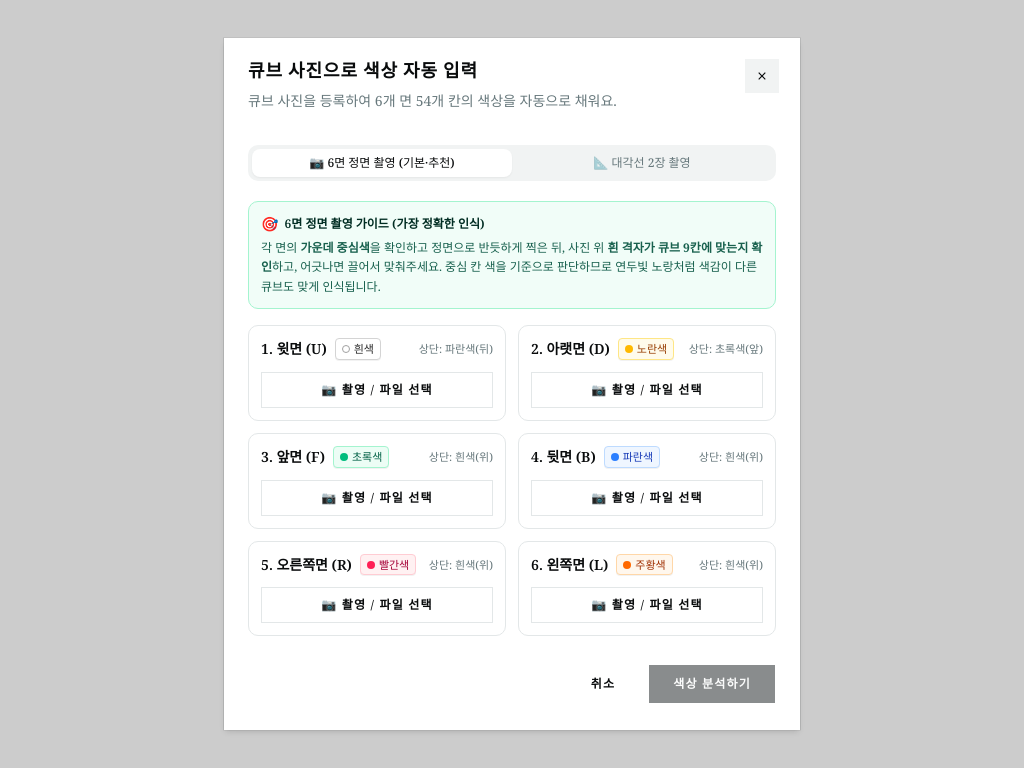
PhotoInputDialog › 허용된 관리자(debtor11@gmail.com)로 로그인된 경우 기본으로 6면 정면 촬영 모드가 노출된다
The image size is (1024, 768).
Check: the text "6면 정면 촬영 가이드 (가장 정확한 인식)" is shown, box [284,216,485,232]
Check: the text "1. 윗면 (U)" is shown, box [261,340,327,360]
# 대각선 2장 촬영 탭 클릭 시 2장 촬영 UI로 전환 확인
What coordinates should you click on to do the following:
click the button "📐 대각선 2장 촬영"
I would click on:
 (642, 163)
Its box is [512,149,772,177].
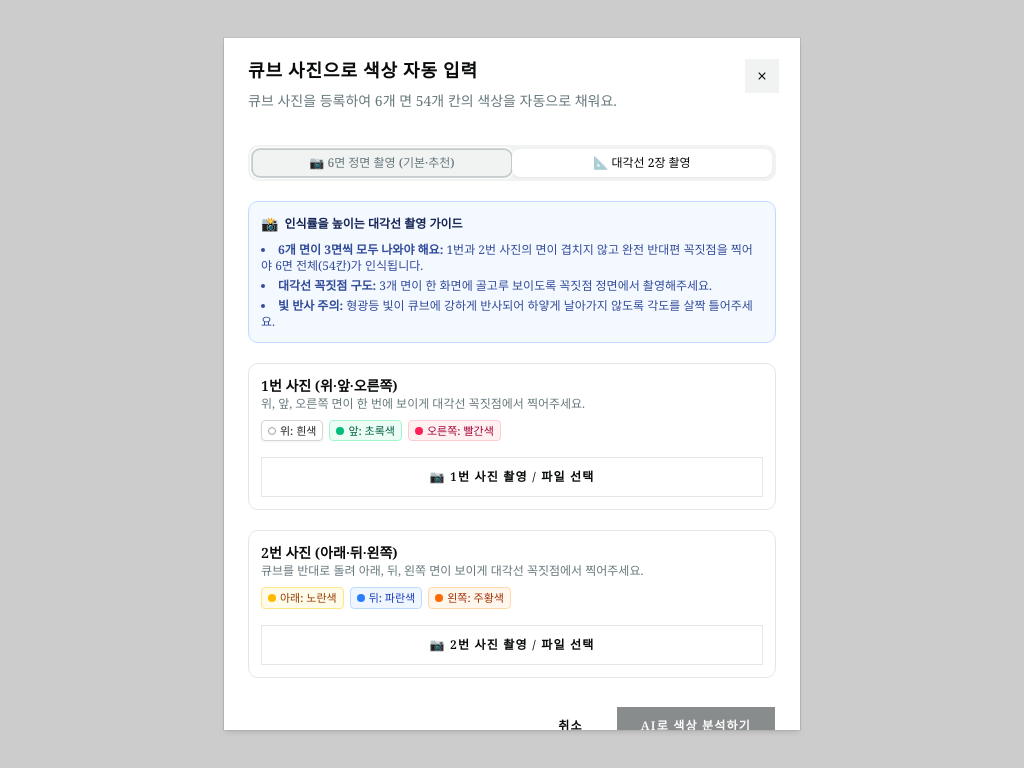
Check: the text "인식률을 높이는 대각선 촬영 가이드" is shown, box [284,216,463,232]
Check: the heading "1번 사진 (위·앞·오른쪽)" is shown, box [261,376,398,395]
Check: the heading "2번 사진 (아래·뒤·왼쪽)" is shown, box [261,544,398,563]
